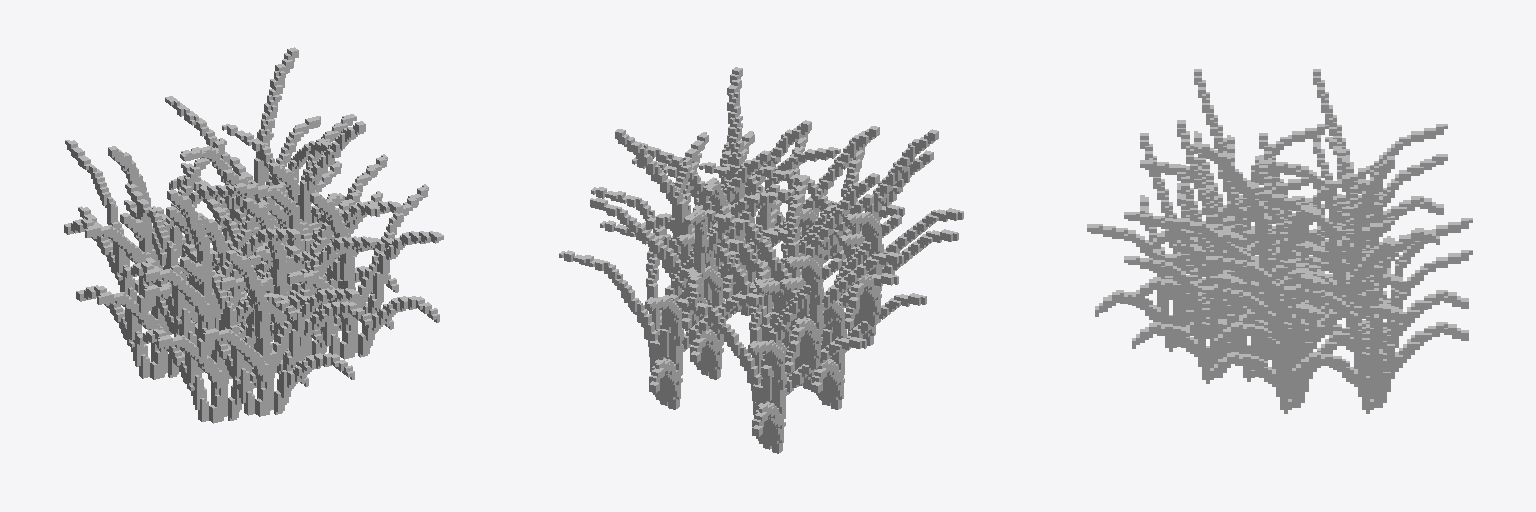
File: grass.vox.obj
3 views of the same model, side by side, from view 1: azimuth 30°, elevation 25°; view 2: azimuth 150°, elevation 25°; view 3: azimuth 270°, elevation 25° (orthographic).
Visible parts, largest first — view 1: object 1; view 2: object 1; view 3: object 1.
Part boxes in pixels (bbox=[...]): object 1: bbox=[64, 47, 443, 423]; object 1: bbox=[559, 67, 963, 453]; object 1: bbox=[1087, 69, 1472, 413].
Bounding box in the file's own units: 8.6 × 7.7 × 9.4.